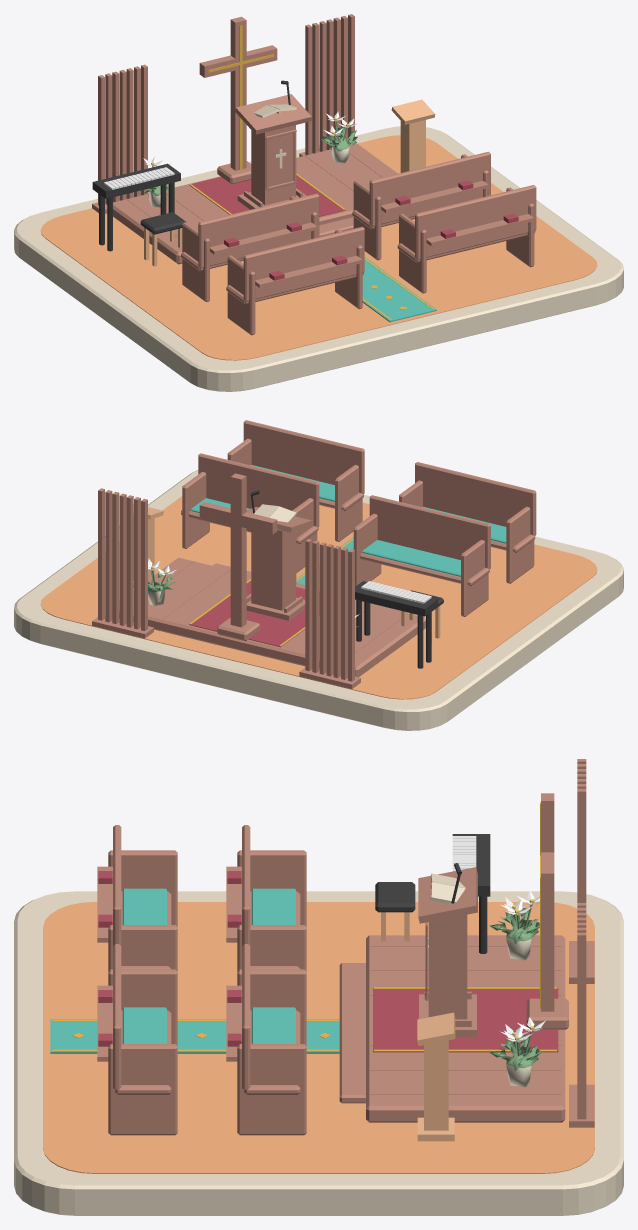
Rendered from room.fbx.
The picture shows the model from 3 angles, top to bottom: view 1: azimuth 30°, elevation 25°; view 2: azimuth 150°, elevation 25°; view 3: azimuth 270°, elevation 25°; orthographic projection. The views are drawn at different scales.
Visible parts, largest first — view 1: COM-02 Floor Surface, COM-01 Rounded Base Direct, Sanctuary platform, Back.002, Back.003, Back.001, Back, Single joined wooden cross, Body, Aisle runner, Stage carpet, Reading top (+31 smaller); view 2: COM-02 Floor Surface, COM-01 Rounded Base Direct, Sanctuary platform, Back.002, Back, Back.003, Back.001, Single joined wooden cross, Body, Stage carpet, Seat cushion, End panel.005 (+28 smaller); view 3: COM-02 Floor Surface, COM-01 Rounded Base Direct, Sanctuary platform, Stage carpet, End panel.002, End panel.006, Aisle runner, Body, Entry step, Single joined wooden cross, End panel.004, End panel (+32 smaller).
Part boxes in pixels (<box>): COM-02 Floor Surface: <box>40,135,597,360</box>; COM-01 Rounded Base Direct: <box>14,126,623,391</box>; Sanctuary platform: <box>113,143,397,264</box>; Back.002: <box>243,226,364,301</box>; Back.003: <box>415,185,536,259</box>; Back.001: <box>369,151,490,226</box>; Back: <box>198,193,319,268</box>; Single joined wooden cross: <box>199,16,277,170</box>; Body: <box>251,125,295,205</box>; Aisle runner: <box>362,257,436,322</box>; Stage carpet: <box>189,175,345,216</box>; Reading top: <box>235,94,311,134</box>; COM-02 Floor Surface: <box>40,496,597,699</box>; COM-01 Rounded Base Direct: <box>14,470,623,730</box>; Sanctuary platform: <box>119,557,425,677</box>; Back.002: <box>415,462,536,535</box>; Back: <box>369,495,490,569</box>; Back.003: <box>243,420,364,494</box>; Back.001: <box>198,453,319,527</box>; Single joined wooden cross: <box>199,473,277,627</box>; Body: <box>251,529,295,610</box>; Stage carpet: <box>189,581,319,647</box>; Seat cushion: <box>362,540,460,576</box>; End panel.005: <box>506,506,534,583</box>; COM-02 Floor Surface: <box>43,902,594,1173</box>; COM-01 Rounded Base Direct: <box>14,891,623,1215</box>; Sanctuary platform: <box>366,935,565,1122</box>; Stage carpet: <box>373,988,558,1052</box>; End panel.002: <box>237,1044,306,1135</box>; End panel.006: <box>108,1044,177,1135</box>; Aisle runner: <box>50,1019,339,1053</box>; Body: <box>428,914,467,1019</box>; Entry step: <box>339,963,365,1103</box>; Single joined wooden cross: <box>541,793,554,1011</box>; End panel.004: <box>108,925,177,971</box>; End panel: <box>237,925,306,971</box>.
Size of the model in its own units: 600 by 256 by 520.
